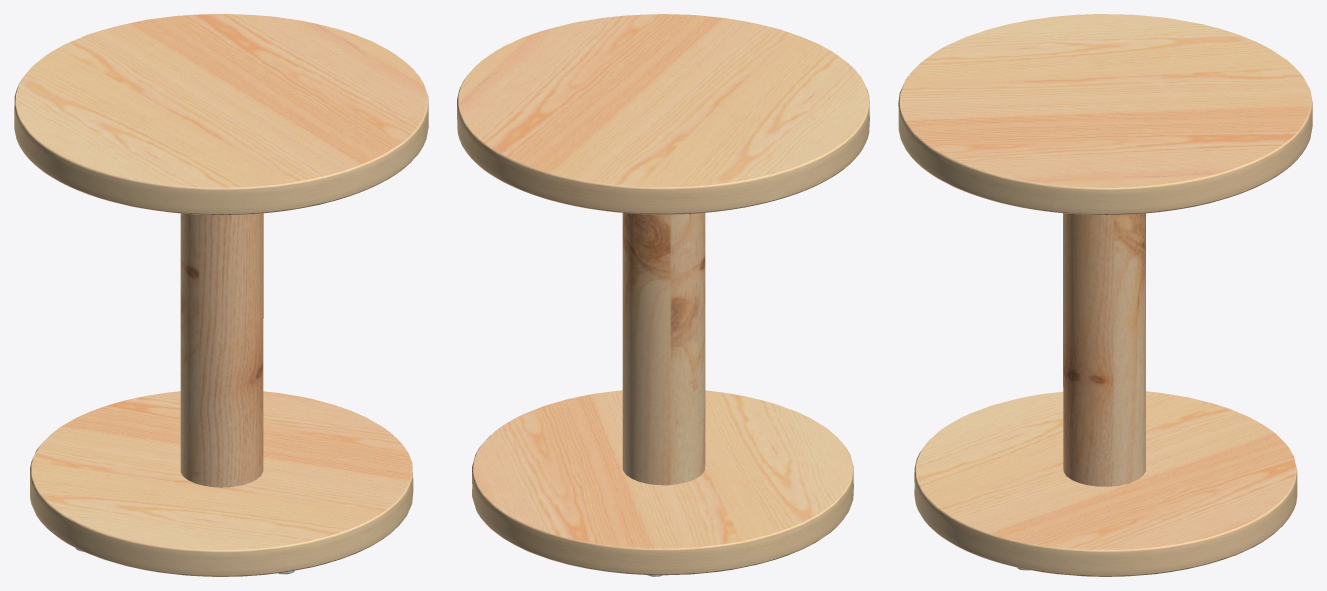
The model's file is sidetable-STOCKHOLM 2025 side table - pine veneer natural (90586563).glb.
3 views of the same model, side by side, from view 1: azimuth 30°, elevation 25°; view 2: azimuth 150°, elevation 25°; view 3: azimuth 270°, elevation 25° (orthographic).
Visible parts, largest first — view 1: ASY_ART_90586563_S01_NV01; view 2: ASY_ART_90586563_S01_NV01; view 3: ASY_ART_90586563_S01_NV01.
Boxes of the visible parts, bbox=[...] form: ASY_ART_90586563_S01_NV01: bbox=[14, 14, 428, 576]; ASY_ART_90586563_S01_NV01: bbox=[457, 14, 869, 576]; ASY_ART_90586563_S01_NV01: bbox=[898, 14, 1312, 576].
Size of the model in its own units: 0.4002 by 0.4267 by 0.4002.
Materials: 1 (1 with a texture image).
